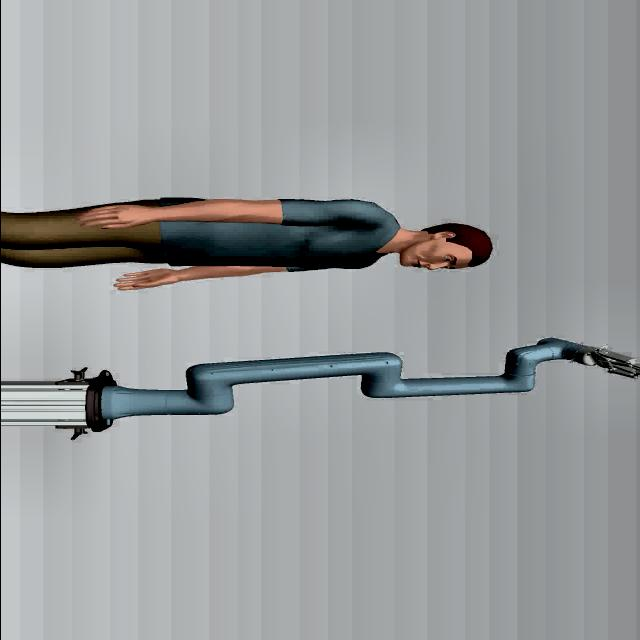human: (1, 197, 494, 290)
robot: (86, 336, 640, 434)
